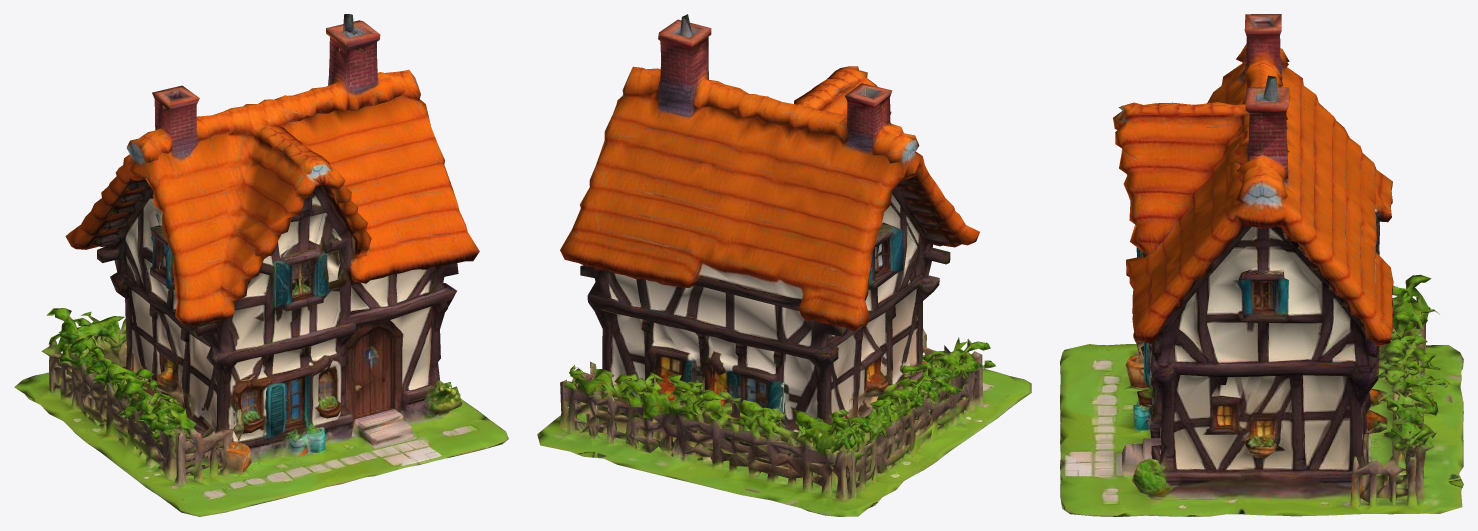
File: housing.glb
The picture shows the model from 3 angles, left to right: view 1: azimuth 30°, elevation 25°; view 2: azimuth 150°, elevation 25°; view 3: azimuth 270°, elevation 25°; orthographic projection. The views are drawn at different scales.
Visible parts, largest first — view 1: Mesh_0; view 2: Mesh_0; view 3: Mesh_0.
Part boxes in pixels (left/top/right/bottom): Mesh_0: left=14, top=14, right=508, bottom=516; Mesh_0: left=537, top=14, right=1031, bottom=516; Mesh_0: left=1060, top=14, right=1463, bottom=516.
Size of the model in its own units: 1.75 by 1.91 by 1.73.
Materials: 1 (1 with a texture image).
